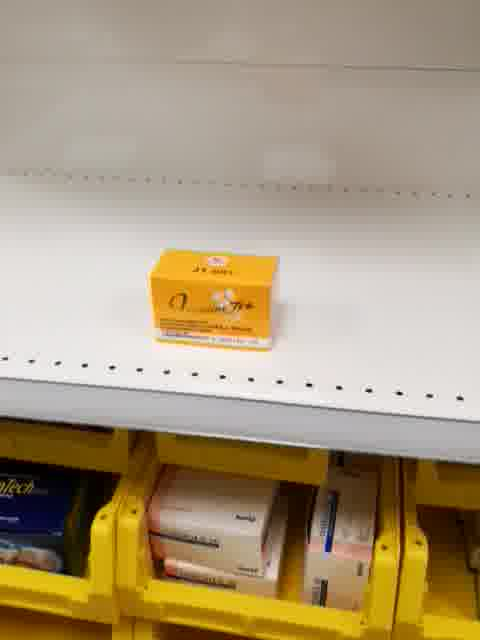jasminetea: (148, 246, 284, 354)
